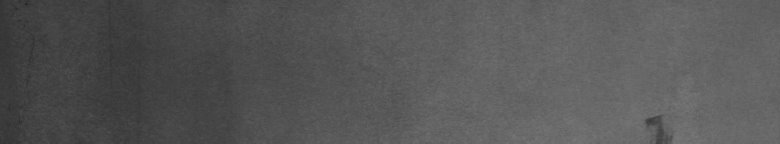fi: (641, 108, 672, 136)
